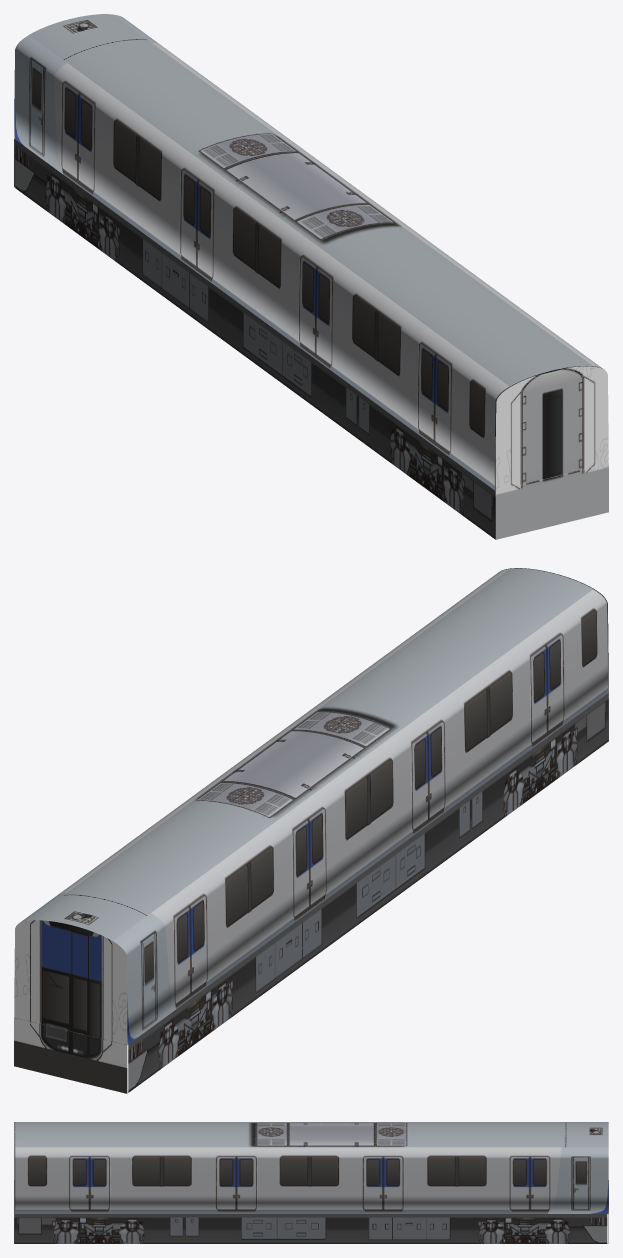
Rendered from car2.glb.
The picture shows the model from 3 angles, top to bottom: view 1: azimuth 30°, elevation 25°; view 2: azimuth 150°, elevation 25°; view 3: azimuth 270°, elevation 25°; orthographic projection. The views are drawn at different scales.
Visible parts, largest first — view 1: tobu-90000-car2; view 2: tobu-90000-car2; view 3: tobu-90000-car2.
Boxes of the visible parts, left/top/right/bottom form: tobu-90000-car2: left=14, top=14, right=608, bottom=539; tobu-90000-car2: left=14, top=568, right=608, bottom=1093; tobu-90000-car2: left=14, top=1122, right=608, bottom=1243.
Bounding box in the file's own units: 2.78 × 3.63 × 20.5.
9 materials, 8 textured.
